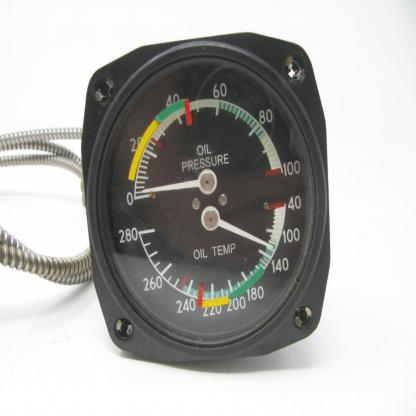needle: (219, 218, 274, 250), (142, 178, 199, 194)
